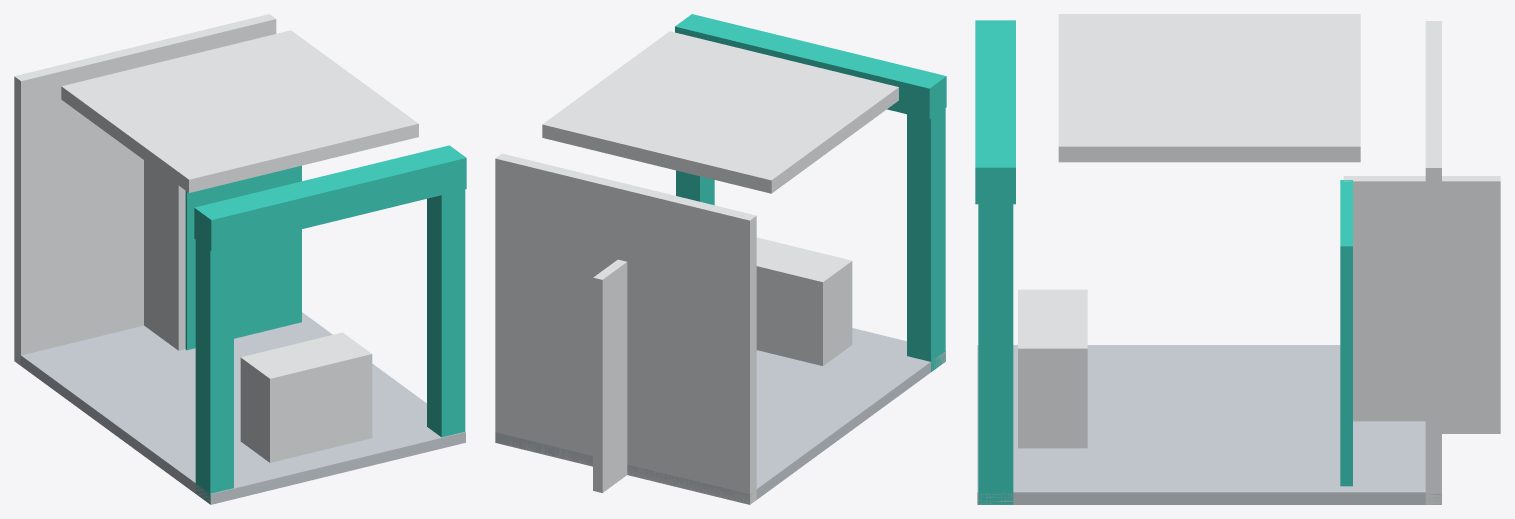
3 renders of one model, left to right at view 1: azimuth 30°, elevation 25°; view 2: azimuth 150°, elevation 25°; view 3: azimuth 270°, elevation 25°, orthographic. The views are drawn at different scales.
Visible parts, largest first — view 1: Exhibition Booth Concept; view 2: Exhibition Booth Concept; view 3: Exhibition Booth Concept.
Part boxes in pixels (bbox=[...]): Exhibition Booth Concept: bbox=[14, 14, 466, 504]; Exhibition Booth Concept: bbox=[495, 14, 946, 504]; Exhibition Booth Concept: bbox=[975, 14, 1500, 504].
Size of the model in its own units: 3 by 3.34 by 4.52.
